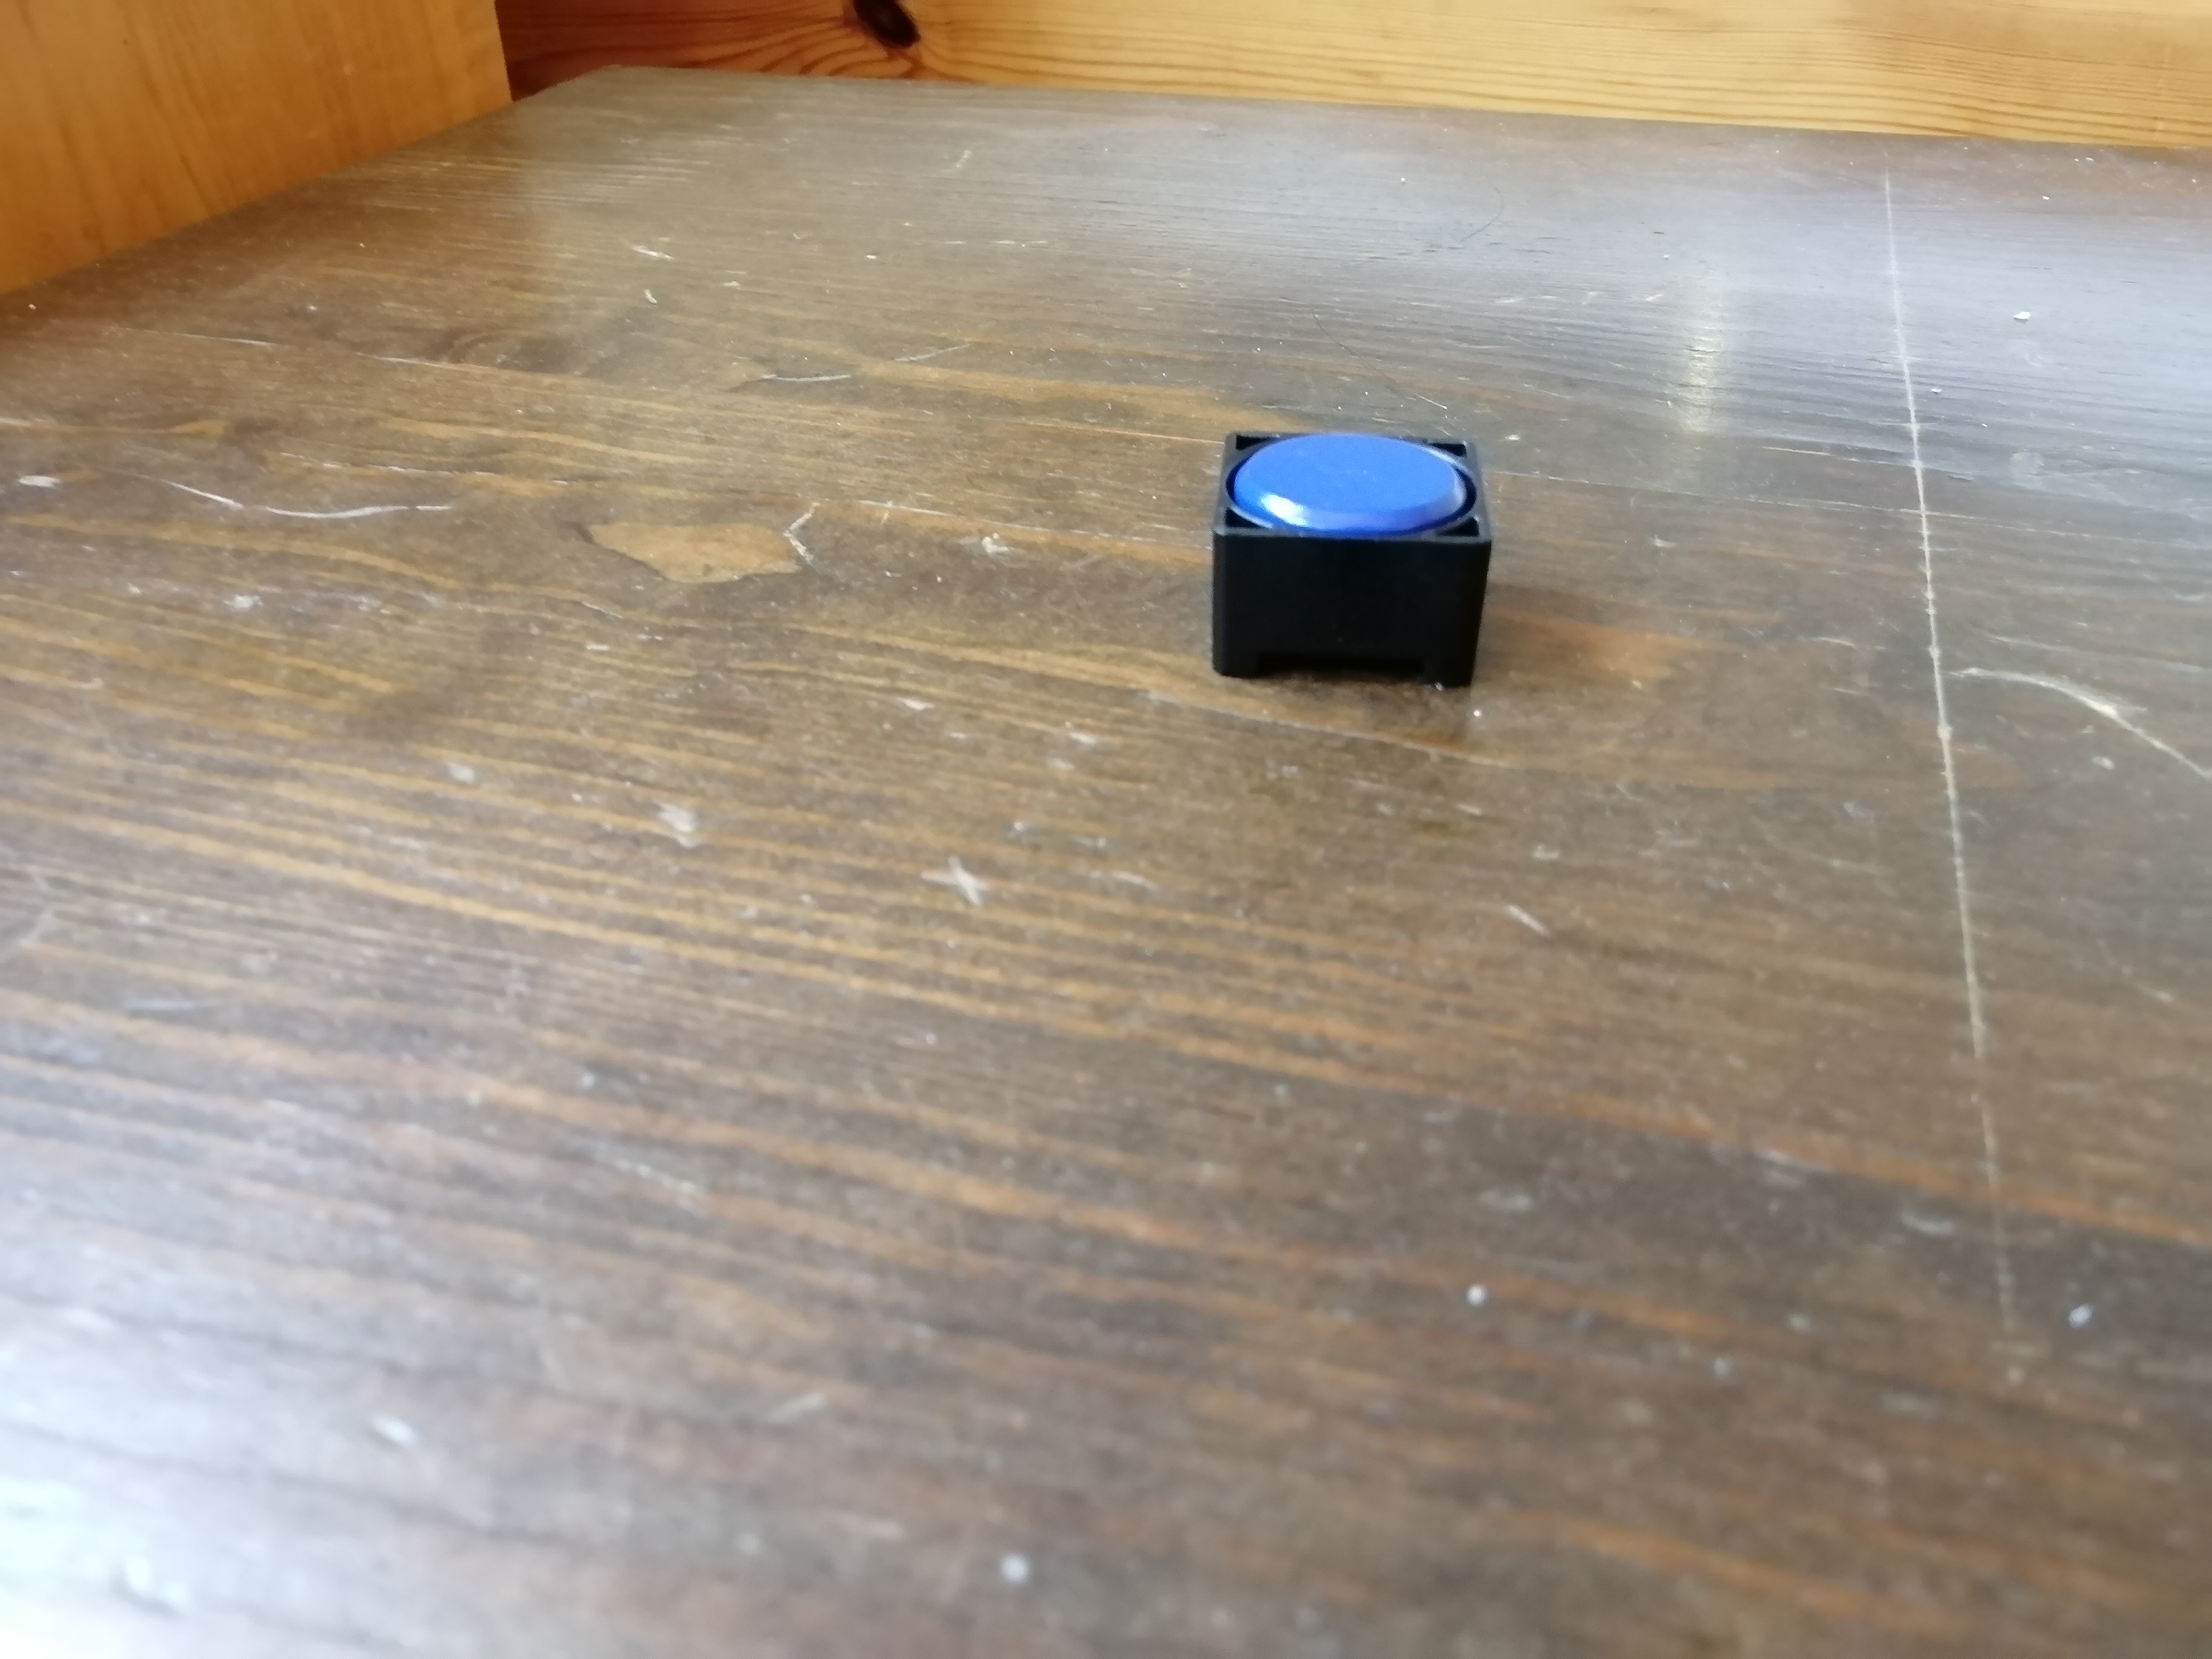Behaelter: (1211, 441, 1486, 683)
WerkStueck: (1224, 437, 1470, 544)
